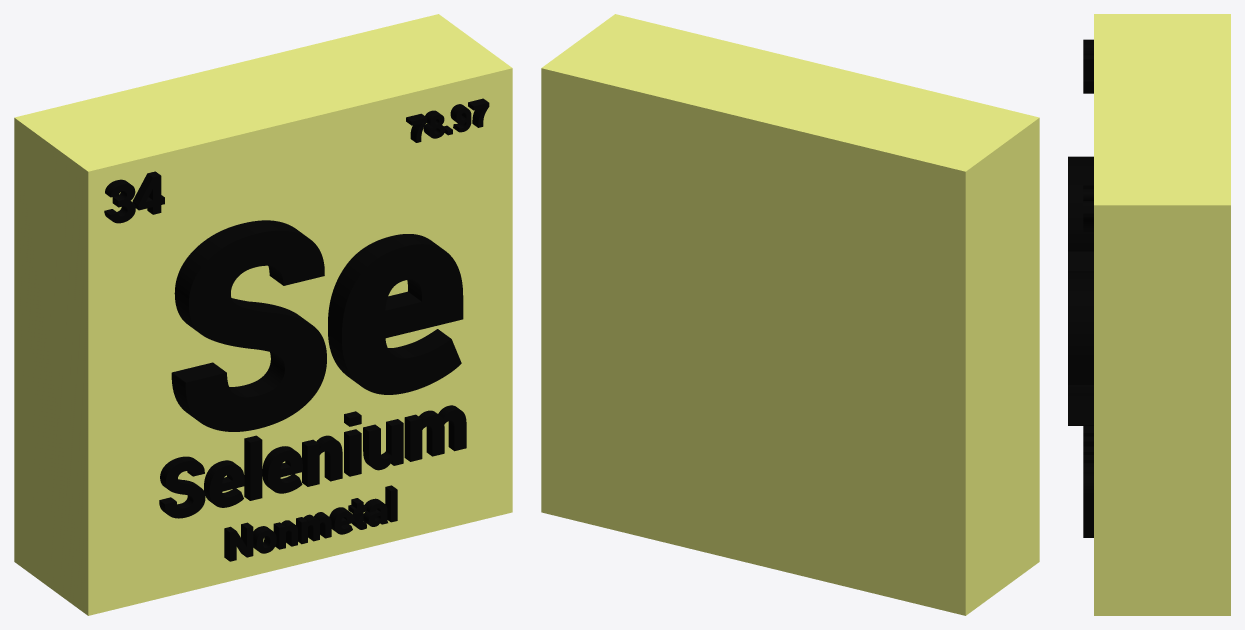
3 views of the same model, side by side, from view 1: azimuth 30°, elevation 25°; view 2: azimuth 150°, elevation 25°; view 3: azimuth 270°, elevation 25° (orthographic). The views are drawn at different scales.
Visible parts, largest first — view 1: Cube, Text, Text.001, Text.002, Text.003, Text.004; view 2: Cube; view 3: Cube, Text, Text.001, Text.003, Text.004.
Part boxes in pixels (left/top/right/bottom): Cube: left=14, top=14, right=512, bottom=615; Text: left=171, top=220, right=463, bottom=431; Text.001: left=159, top=405, right=466, bottom=518; Text.002: left=224, top=485, right=397, bottom=561; Text.003: left=104, top=171, right=164, bottom=223; Text.004: left=406, top=98, right=489, bottom=142; Cube: left=541, top=14, right=1039, bottom=615; Cube: left=1094, top=14, right=1230, bottom=615; Text: left=1068, top=156, right=1093, bottom=425; Text.001: left=1083, top=426, right=1093, bottom=517; Text.003: left=1083, top=39, right=1093, bottom=93; Text.004: left=1083, top=178, right=1093, bottom=231.
Size of the model in its own units: 178 by 178 by 63.95.
